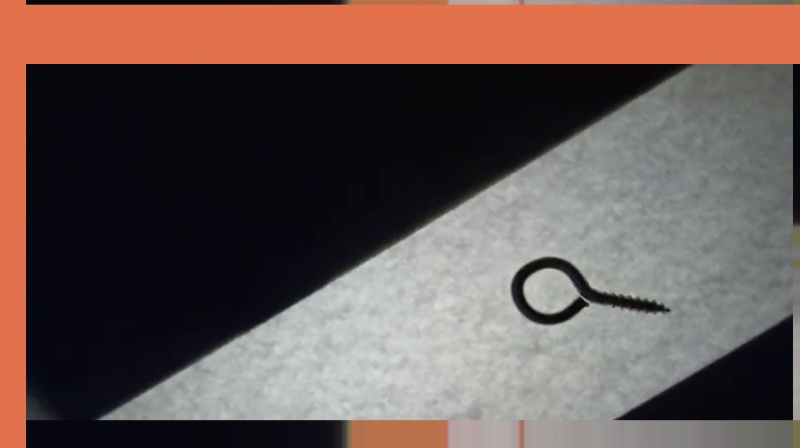O001: (504, 254, 673, 326)
